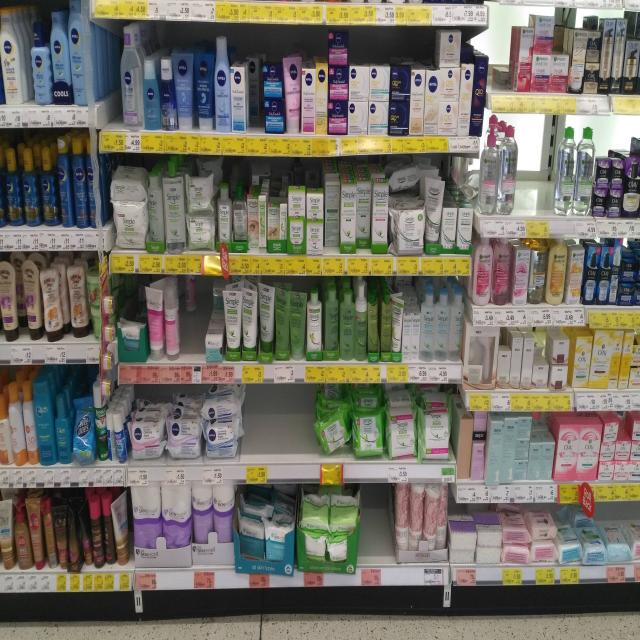void: (524, 127, 551, 237), (98, 23, 120, 155), (292, 381, 318, 489), (364, 488, 390, 593), (266, 381, 290, 486), (608, 497, 632, 584), (244, 386, 264, 488), (251, 46, 264, 160)
